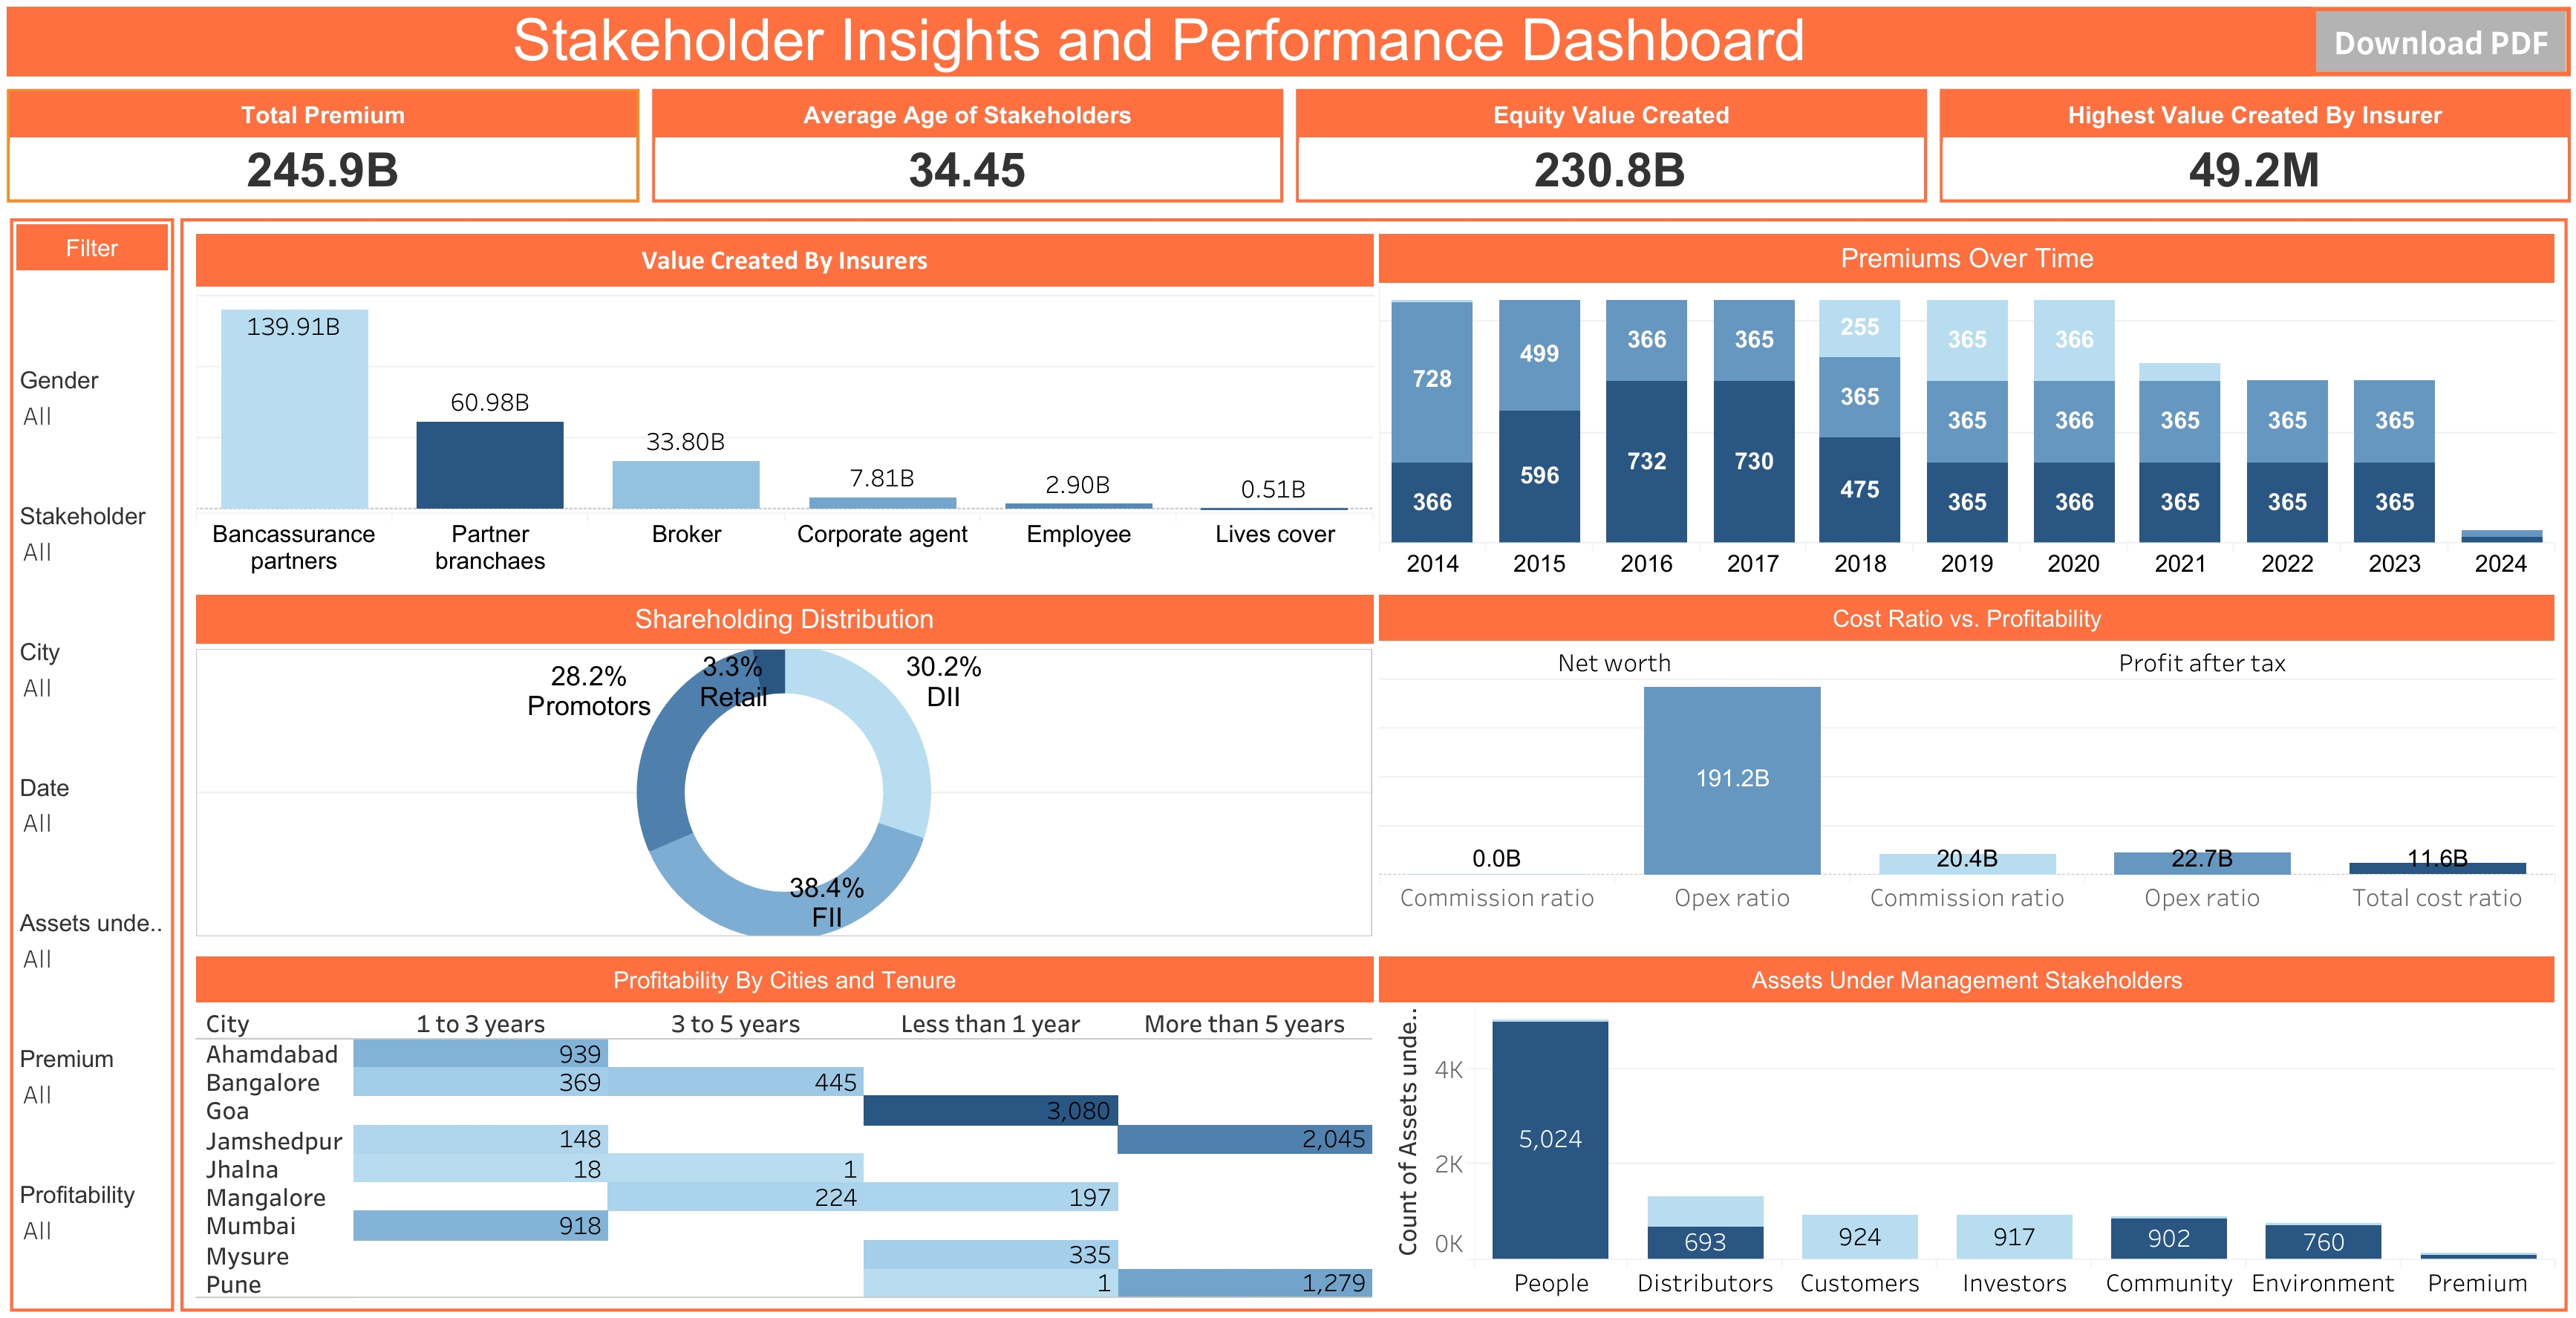

Layout of this report page (visuals, bound fields, positions):
{"tool":"tableau","page":{"name":"Dashboard 1","canvas":[1000,1000],"units":"permille","ordinal":0},"visuals":[{"type":"text","box":[9.7,18.6,881.7,51.1]},{"type":"dashboard-object","box":[891.4,18.6,99,51.1]},{"type":"worksheet","title":"Total Premium","mark":"Automatic","box":[7.2,74.3,246.8,92.9]},{"type":"worksheet","title":"average age of stakeholders","mark":"Automatic","box":[254.1,74.3,246.2,92.9]},{"type":"worksheet","title":"Equity Value Created","mark":"Automatic","box":[500.3,74.3,246.2,92.9]},{"type":"worksheet","title":"Highest Value Created By Insurer","mark":"Automatic","box":[746.5,74.3,246.2,92.9]},{"type":"worksheet","title":"Filter","mark":"Automatic","box":[12.1,176.5,60.4,101]},{"type":"worksheet","title":"value created by insurers","mark":"Automatic","rows":["Value Created"],"cols":["Insurer"],"box":[80.9,183.5,452.6,256.7]},{"type":"worksheet","title":"premiums over time","mark":"Bar","rows":["Premium 1"],"cols":["Date"],"box":[533.5,183.5,452,256.7]},{"type":"filter","title":"Filter","param":"[federated.0kv3fa71gha6uy12o8ovp1vi1t2d].[none:Gender:nk]","box":[12.1,277.6,60.4,99.9]},{"type":"filter","title":"Filter","param":"[federated.0kv3fa71gha6uy12o8ovp1vi1t2d].[none:Stakeholder:nk]","box":[12.1,377.5,60.4,99.9]},{"type":"worksheet","title":"Shareholding Distribution","mark":"Pie","rows":["Calculation_1330813725352996864","Calculation_1330813725352996864"],"box":[80.9,449.5,452.6,256.7]},{"type":"worksheet","title":"Cost Ratio vs. Profitability","mark":"Automatic","rows":["Value Created"],"cols":["Profitability","Cost ratio"],"box":[533.5,449.5,452,256.7]},{"type":"filter","title":"Filter","param":"[federated.0kv3fa71gha6uy12o8ovp1vi1t2d].[none:City:nk]","box":[12.1,477.4,60.4,99.9]},{"type":"filter","title":"Filter","param":"[federated.0kv3fa71gha6uy12o8ovp1vi1t2d].[my:Date:ok]","box":[12.1,577.2,60.4,99.9]},{"type":"filter","title":"Filter","param":"[federated.0kv3fa71gha6uy12o8ovp1vi1t2d].[none:Assets under management:nk]","box":[12.1,677.1,60.4,99.9]},{"type":"worksheet","title":"Profitability By Cities and Tenure","mark":"Square","rows":["City"],"cols":["Policy tenuer"],"box":[80.9,715.5,452.6,256.7]},{"type":"worksheet","title":"Assets Under Management Stakeholders","mark":"Automatic","rows":["Assets under management"],"cols":["Stakeholder"],"box":[533.5,715.5,452,256.7]},{"type":"filter","title":"Filter","param":"[federated.0kv3fa71gha6uy12o8ovp1vi1t2d].[none:Premium 1:nk]","box":[12.1,777,60.4,99.9]},{"type":"filter","title":"Filter","param":"[federated.0kv3fa71gha6uy12o8ovp1vi1t2d].[none:Profitability:nk]","box":[12.1,876.9,60.4,99.9]}]}

Visuals, with their boxes on the dashboard's canvas, which has no fixed pixel size, in thousandths of its width and height (x1, y1, x2, y2). These are canvas units, not pixel positions in the 2576x1318 screenshot, which may show the page scaled, cropped or inside an application window:
text: [10, 19, 891, 70]
dashboard-object: [891, 19, 990, 70]
"Total Premium" worksheet: [7, 74, 254, 167]
"average age of stakeholders" worksheet: [254, 74, 500, 167]
"Equity Value Created" worksheet: [500, 74, 746, 167]
"Highest Value Created By Insurer" worksheet: [746, 74, 993, 167]
"Filter" worksheet: [12, 176, 72, 278]
"value created by insurers" worksheet: [81, 184, 534, 440]
"premiums over time" worksheet (Bar marks): [534, 184, 986, 440]
"Filter" filter: [12, 278, 72, 378]
"Filter" filter: [12, 378, 72, 477]
"Shareholding Distribution" worksheet (Pie marks): [81, 450, 534, 706]
"Cost Ratio vs. Profitability" worksheet: [534, 450, 986, 706]
"Filter" filter: [12, 477, 72, 577]
"Filter" filter: [12, 577, 72, 677]
"Filter" filter: [12, 677, 72, 777]
"Profitability By Cities and Tenure" worksheet (Square marks): [81, 716, 534, 972]
"Assets Under Management Stakeholders" worksheet: [534, 716, 986, 972]
"Filter" filter: [12, 777, 72, 877]
"Filter" filter: [12, 877, 72, 977]
